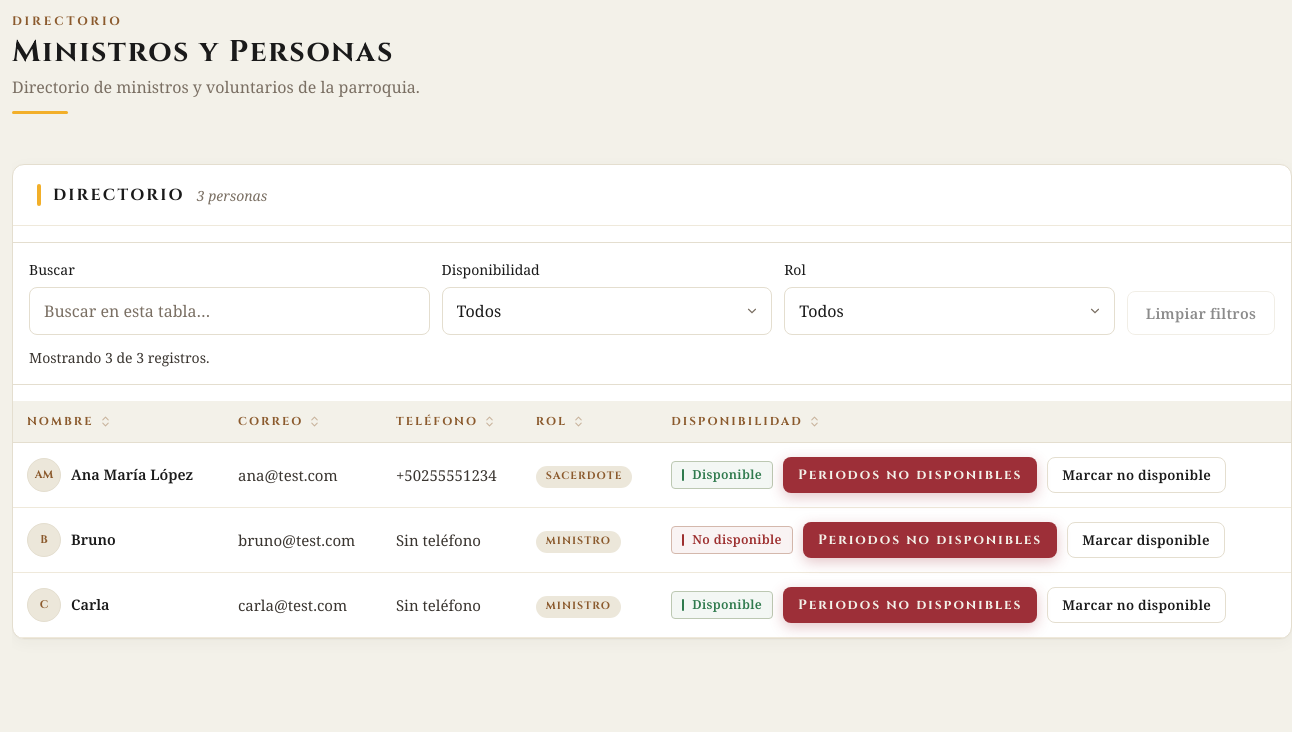
it: integración del directorio de ministros › mantiene el valor y muestra aviso cuando falla la actualización
This screenshot has width=1292, height=732.
Expected: the text "Bruno" is shown, [71,529,116,551]
Click the button "Marcar disponible" at coordinates (1146, 540), box [1067,522,1225,558]
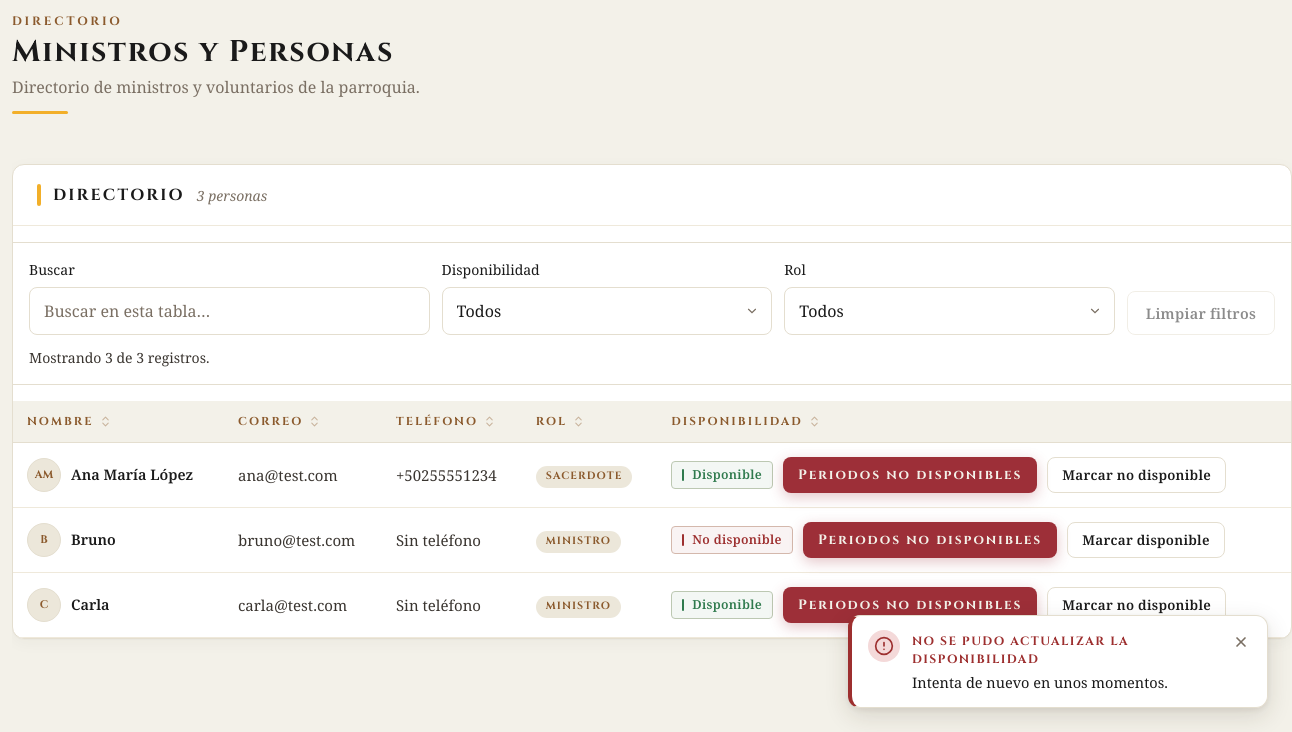
Expected: the number of buttons "Marcar disponible" is 1, [1067,522,1225,558]
Now the message shows "No se pudo actualizar la disponibilidad", box [912,633,1129,667]
